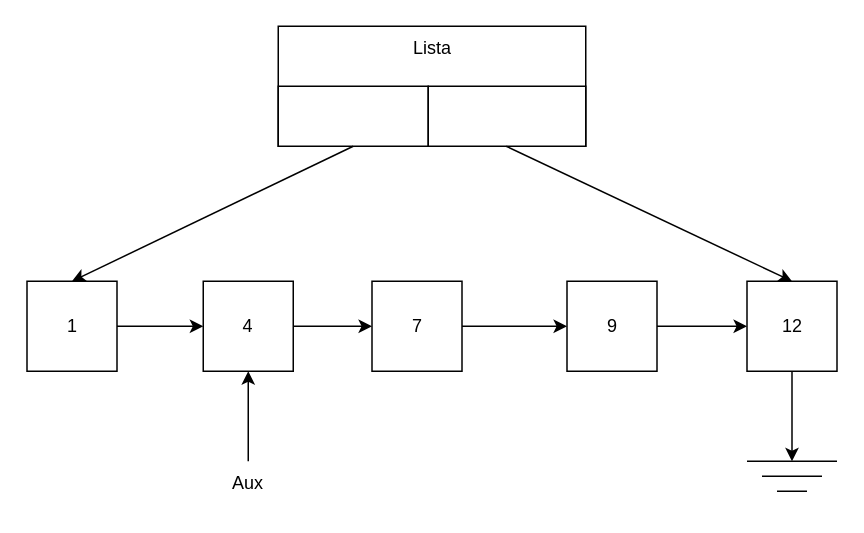
Some shapes in this 864 by 533 pixel diagram are drawn without their labels. Here are the shapes that lost their labels. From the top down, the centre of each, then its label:
the point at 352,115: Início
the point at 506,115: Fim
